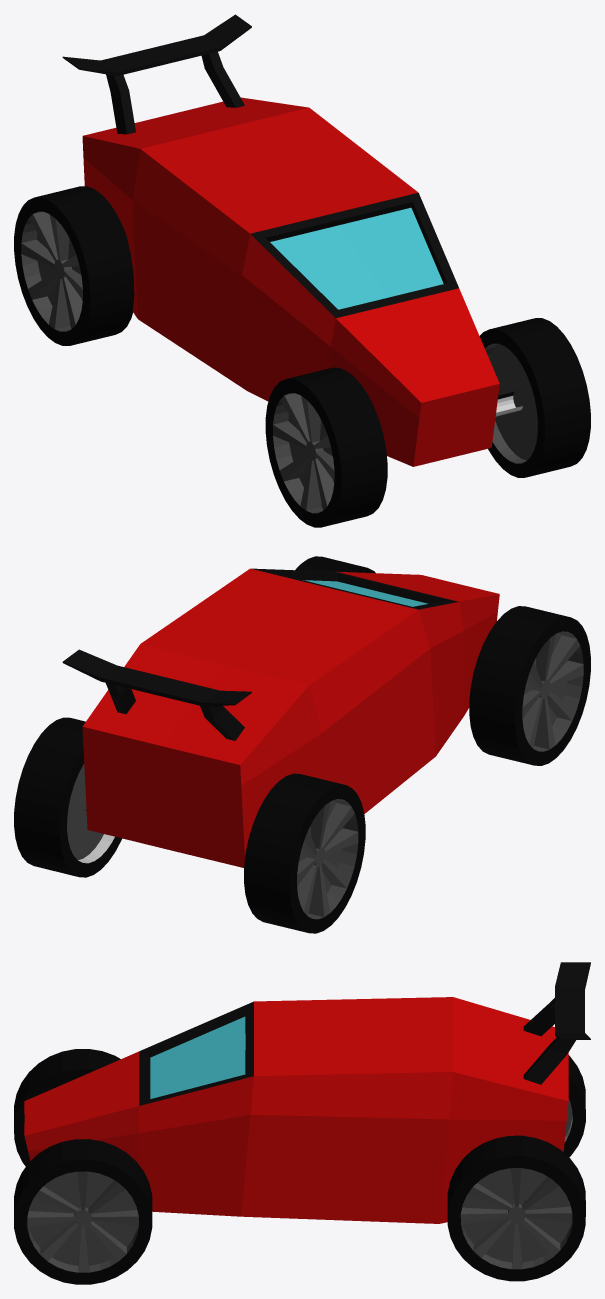
The model's file is car.obj.
3 views of the same model, one above another, from view 1: azimuth 30°, elevation 25°; view 2: azimuth 150°, elevation 25°; view 3: azimuth 270°, elevation 25° (orthographic). The views are drawn at different scales.
Parts seen in each view (by area): view 1: Cube, Spoiler; view 2: Cube, Spoiler; view 3: Cube, Spoiler.
Boxes of the visible parts, x1=… form: Cube: x1=14, y1=97, x2=590, y2=527; Spoiler: x1=62, y1=14, x2=251, y2=134; Cube: x1=14, y1=556, x2=590, y2=933; Spoiler: x1=62, y1=649, x2=251, y2=740; Cube: x1=14, y1=997, x2=585, y2=1284; Spoiler: x1=523, y1=962, x2=590, y2=1084.
Size of the model in its own units: 2.92 by 2.55 by 5.83.
